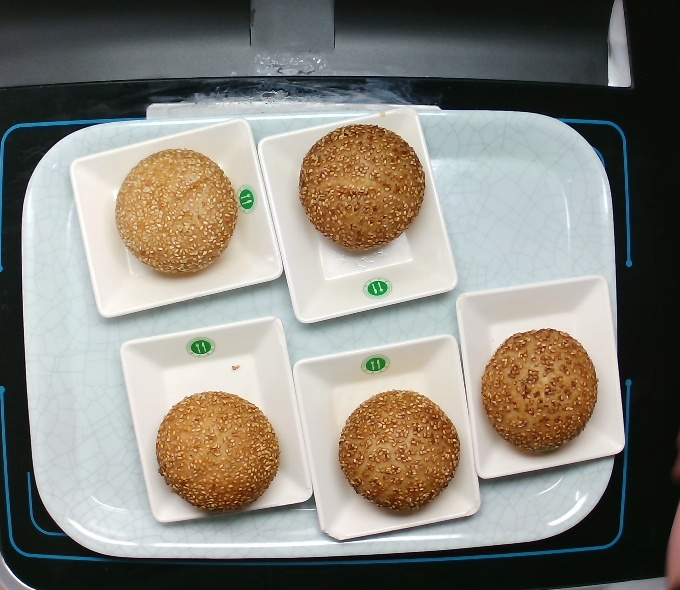wcq-MaCi: (470, 307, 607, 461), (147, 380, 282, 525), (288, 123, 424, 262), (338, 377, 466, 520), (101, 142, 237, 275)
